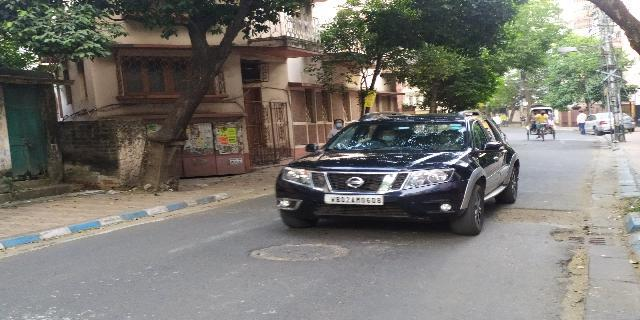Car: (273, 109, 521, 241)
Rickshaw: (523, 101, 559, 145)
